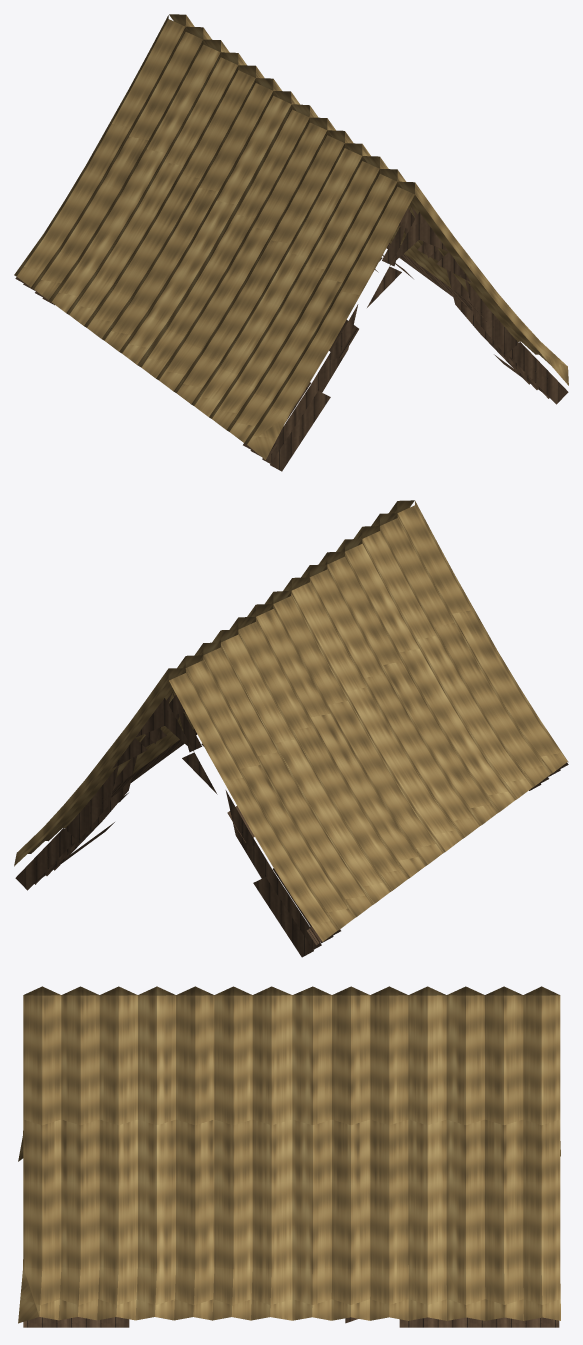
The model's file is Roof_Thatch_4x6_LOD1.gltf.
3 renders of one model, top to bottom at view 1: azimuth 30°, elevation 25°; view 2: azimuth 150°, elevation 25°; view 3: azimuth 270°, elevation 25°, orthographic. The views are drawn at different scales.
Visible parts, largest first — view 1: Roof_Thatch_4x6_LOD1; view 2: Roof_Thatch_4x6_LOD1; view 3: Roof_Thatch_4x6_LOD1.
Boxes of the visible parts, x1=… form: Roof_Thatch_4x6_LOD1: x1=14, y1=14, x2=568, y2=471; Roof_Thatch_4x6_LOD1: x1=14, y1=500, x2=568, y2=957; Roof_Thatch_4x6_LOD1: x1=18, y1=986, x2=560, y2=1327.
Bounding box in the file's own units: 5.51 × 4.01 × 7.57.
Materials: 2 (2 with a texture image).
